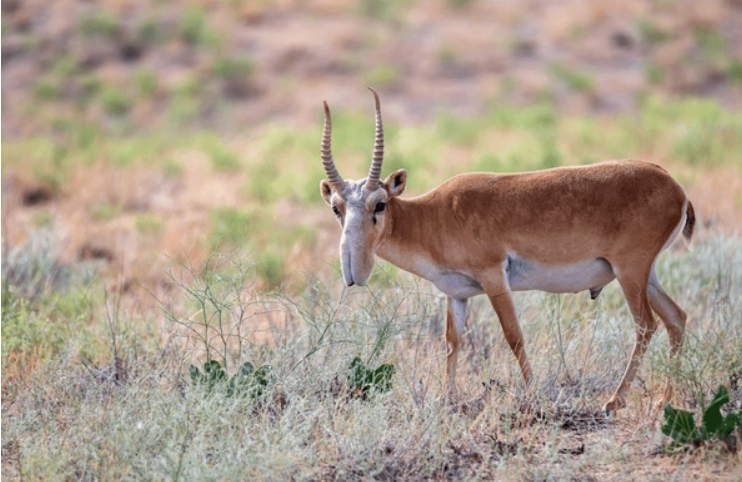saiga: (322, 85, 697, 396)
